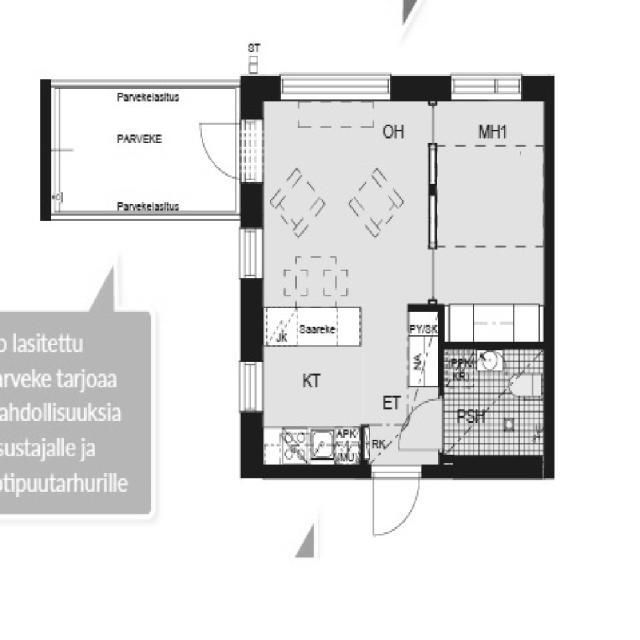door: (370, 466, 420, 540), (194, 117, 244, 182), (398, 393, 444, 453)
window: (277, 73, 392, 97), (448, 66, 524, 100), (234, 361, 264, 422), (238, 227, 265, 280)
zone: (264, 90, 440, 477), (441, 88, 544, 342), (447, 350, 544, 465)
